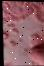plaque psoriasis: (0, 0, 40, 25), (28, 0, 44, 28), (1, 29, 21, 47), (27, 31, 42, 45)
